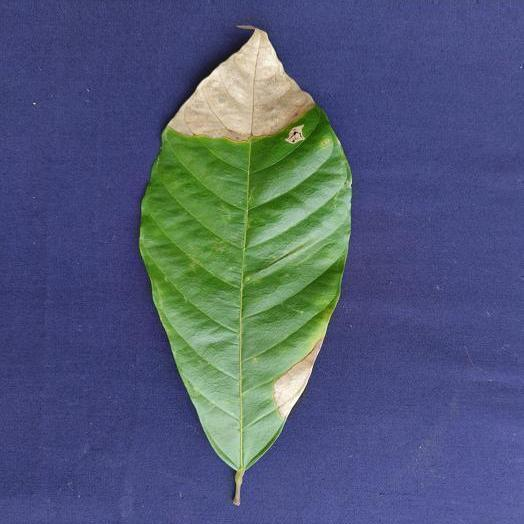Potassium: (139, 26, 350, 504)
